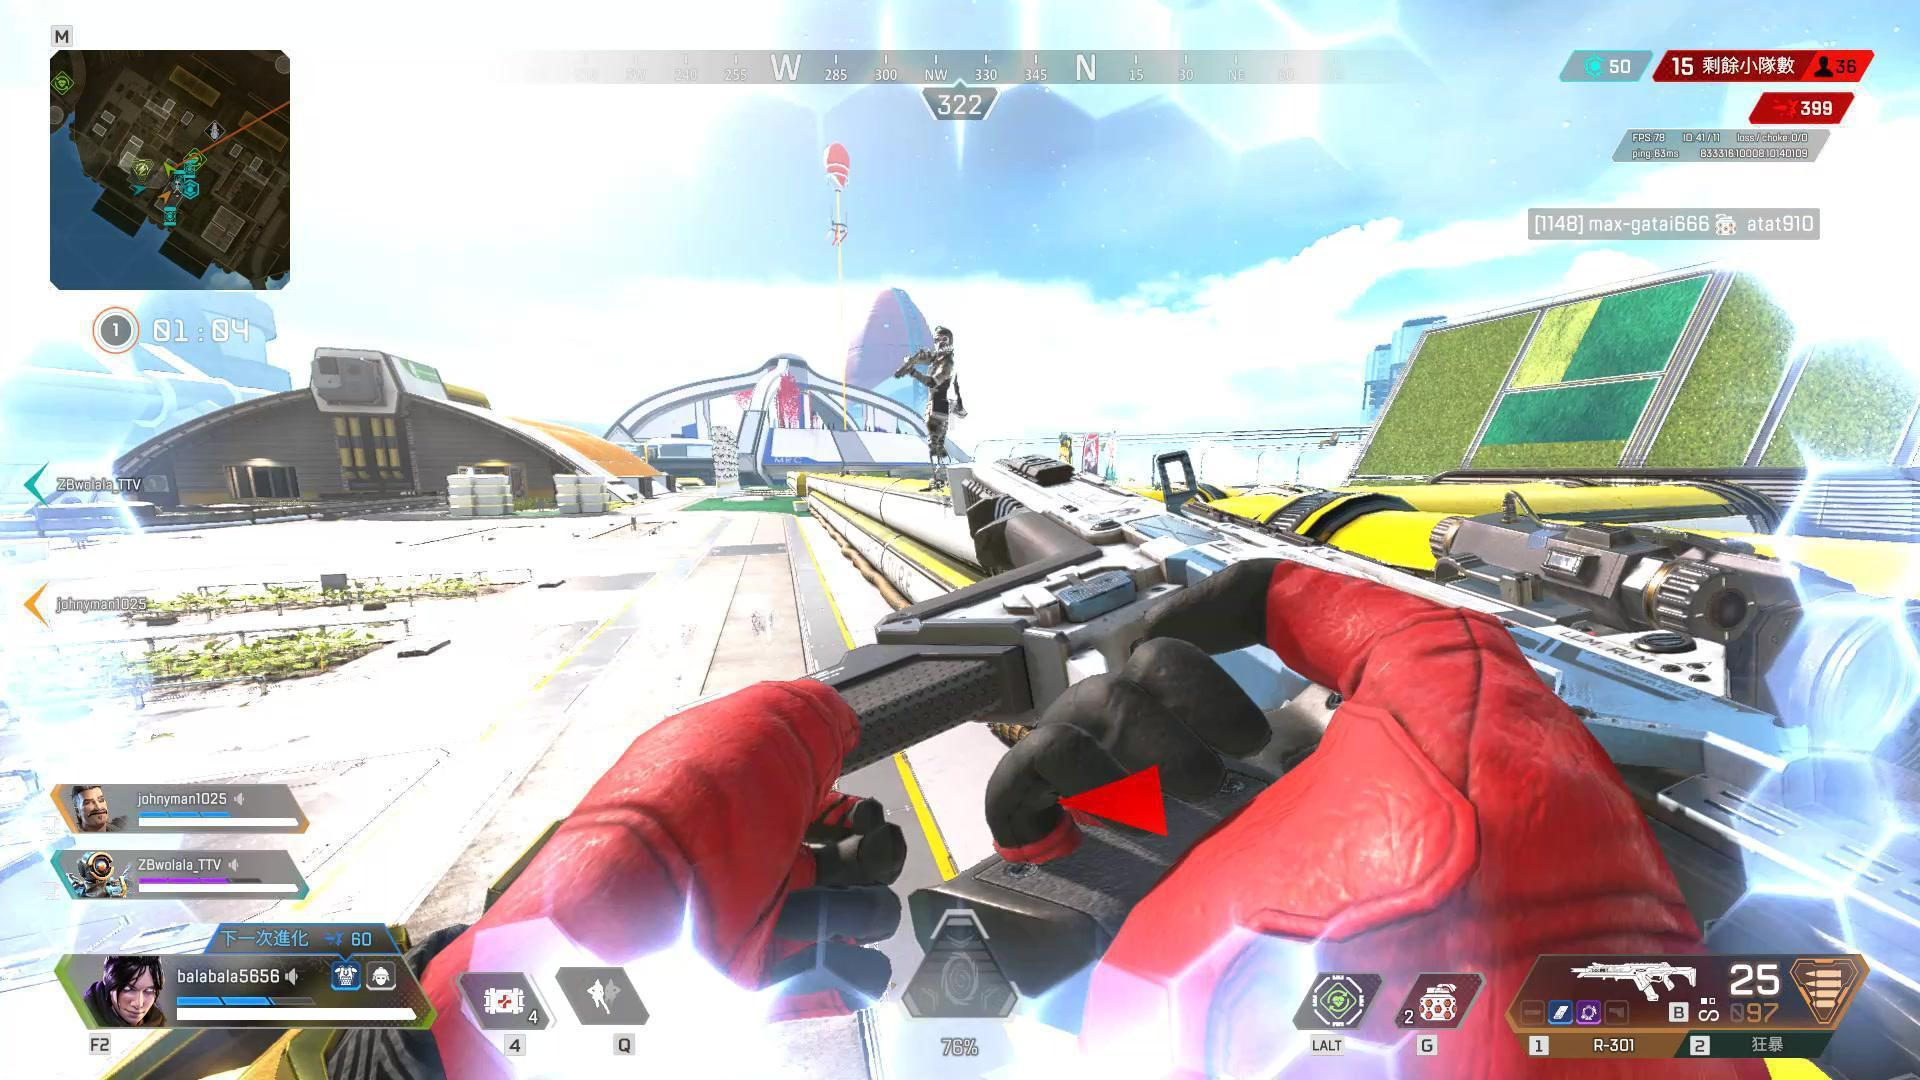avatar: (914, 325, 969, 493)
